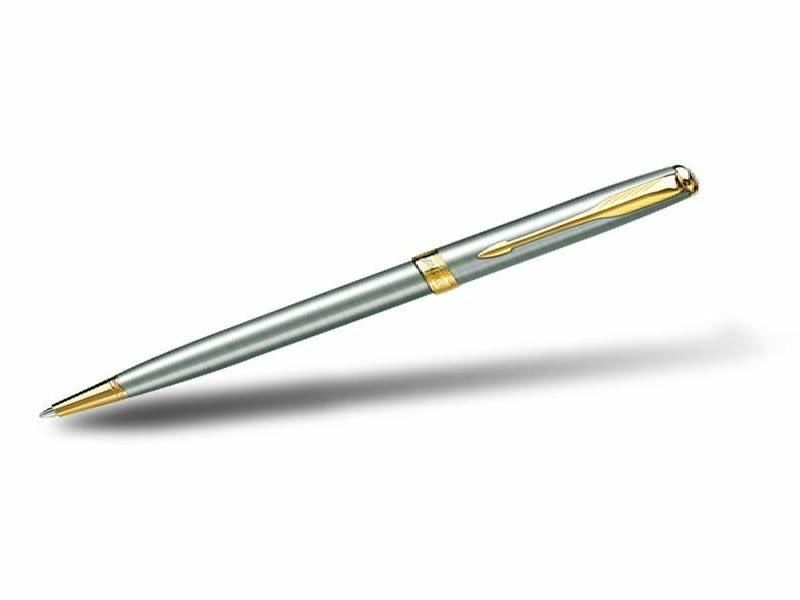pen: (35, 159, 712, 431)
